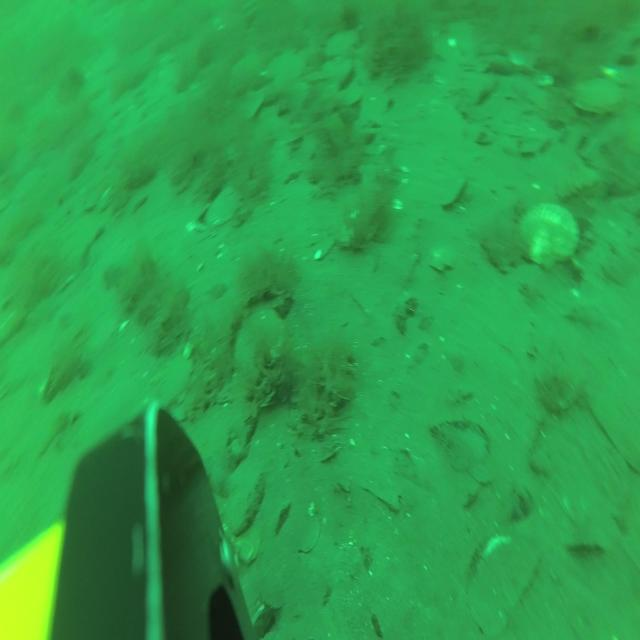scallop: (519, 194, 582, 272), (233, 302, 287, 378), (156, 348, 195, 414), (570, 73, 624, 120), (204, 183, 245, 233), (324, 26, 360, 60), (426, 236, 458, 274)
